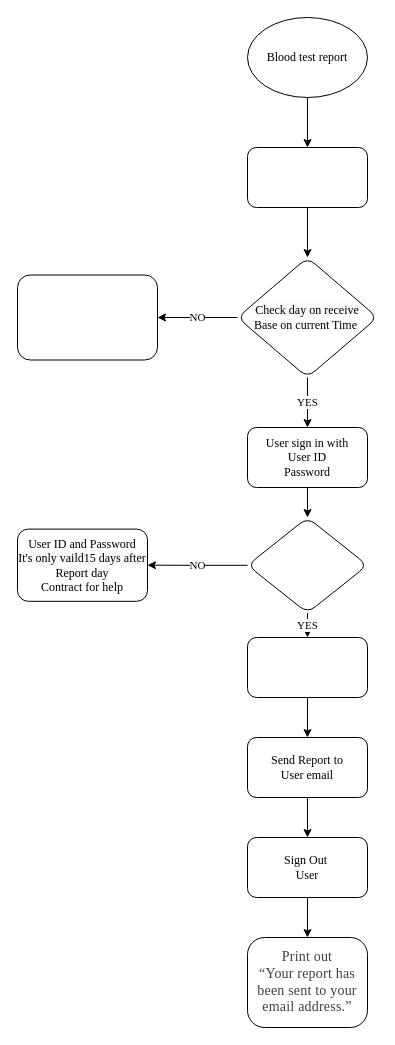
This 395x1045 diagram has some shape labels left out. Here are the shapes that lost their labels. From the top down, the box of each, then its label:
(246, 146, 368, 208): 1.User ID 2.Password 3.Email 4.Receiving day
(16, 274, 158, 360): “Your report would be available on the date specified on your payment receipt.”
(246, 516, 368, 613): Check Valid It's only vaild15 days after Report day
(246, 636, 368, 698): User Input: user email
